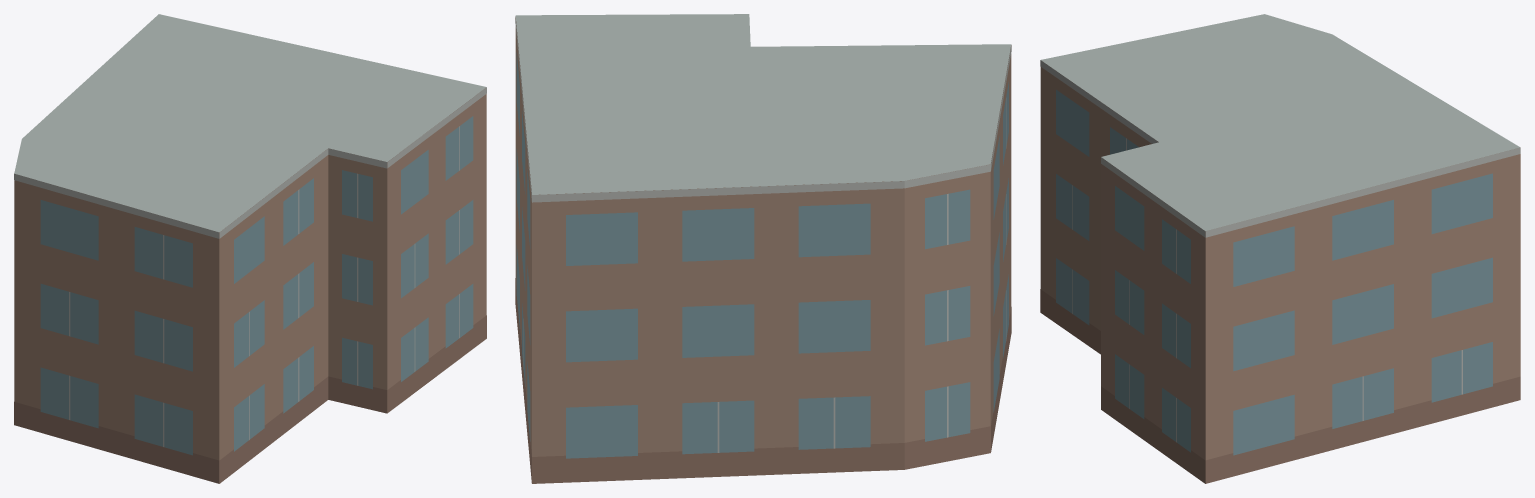
Rendered from survey-upis-33015358.glb.
3 views of the same model, side by side, from view 1: azimuth 30°, elevation 25°; view 2: azimuth 150°, elevation 25°; view 3: azimuth 270°, elevation 25° (orthographic). The views are drawn at different scales.
Parts seen in each view (by area): view 1: survey-upis-33015358.tmp; view 2: survey-upis-33015358.tmp; view 3: survey-upis-33015358.tmp.
Boxes of the visible parts, x1,y1,x2,y2 form: survey-upis-33015358.tmp: (14,14,486,483); survey-upis-33015358.tmp: (515,14,1011,483); survey-upis-33015358.tmp: (1040,14,1520,483).
Bounding box in the file's own units: 17.34 × 9.4 × 16.2.
